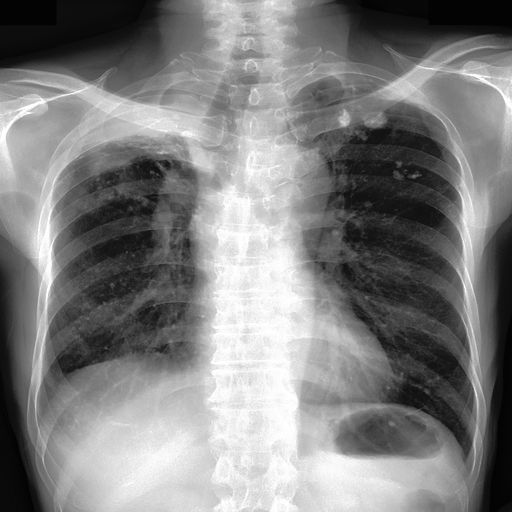Calcification: (66, 86, 196, 139), (338, 69, 399, 90)
Infiltration: (70, 87, 220, 148)
Lung Opacity: (73, 138, 188, 208), (330, 97, 420, 181), (78, 248, 143, 334), (338, 83, 388, 141), (393, 160, 423, 180)
Pleural thickening: (66, 86, 196, 139)
Pneumothorax: (65, 250, 178, 350), (73, 138, 188, 208), (330, 97, 420, 181), (338, 83, 388, 141), (388, 158, 423, 181), (444, 201, 455, 213)
Pulmonary fibrosis: (65, 250, 178, 350), (69, 150, 169, 234), (362, 110, 387, 130), (338, 108, 350, 128)
